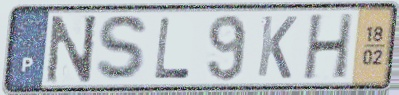9: (203, 12, 248, 84)
H: (300, 11, 357, 83)
K: (254, 13, 299, 82)
L: (152, 15, 192, 81)
N: (44, 13, 100, 86)
S: (93, 12, 153, 85)
